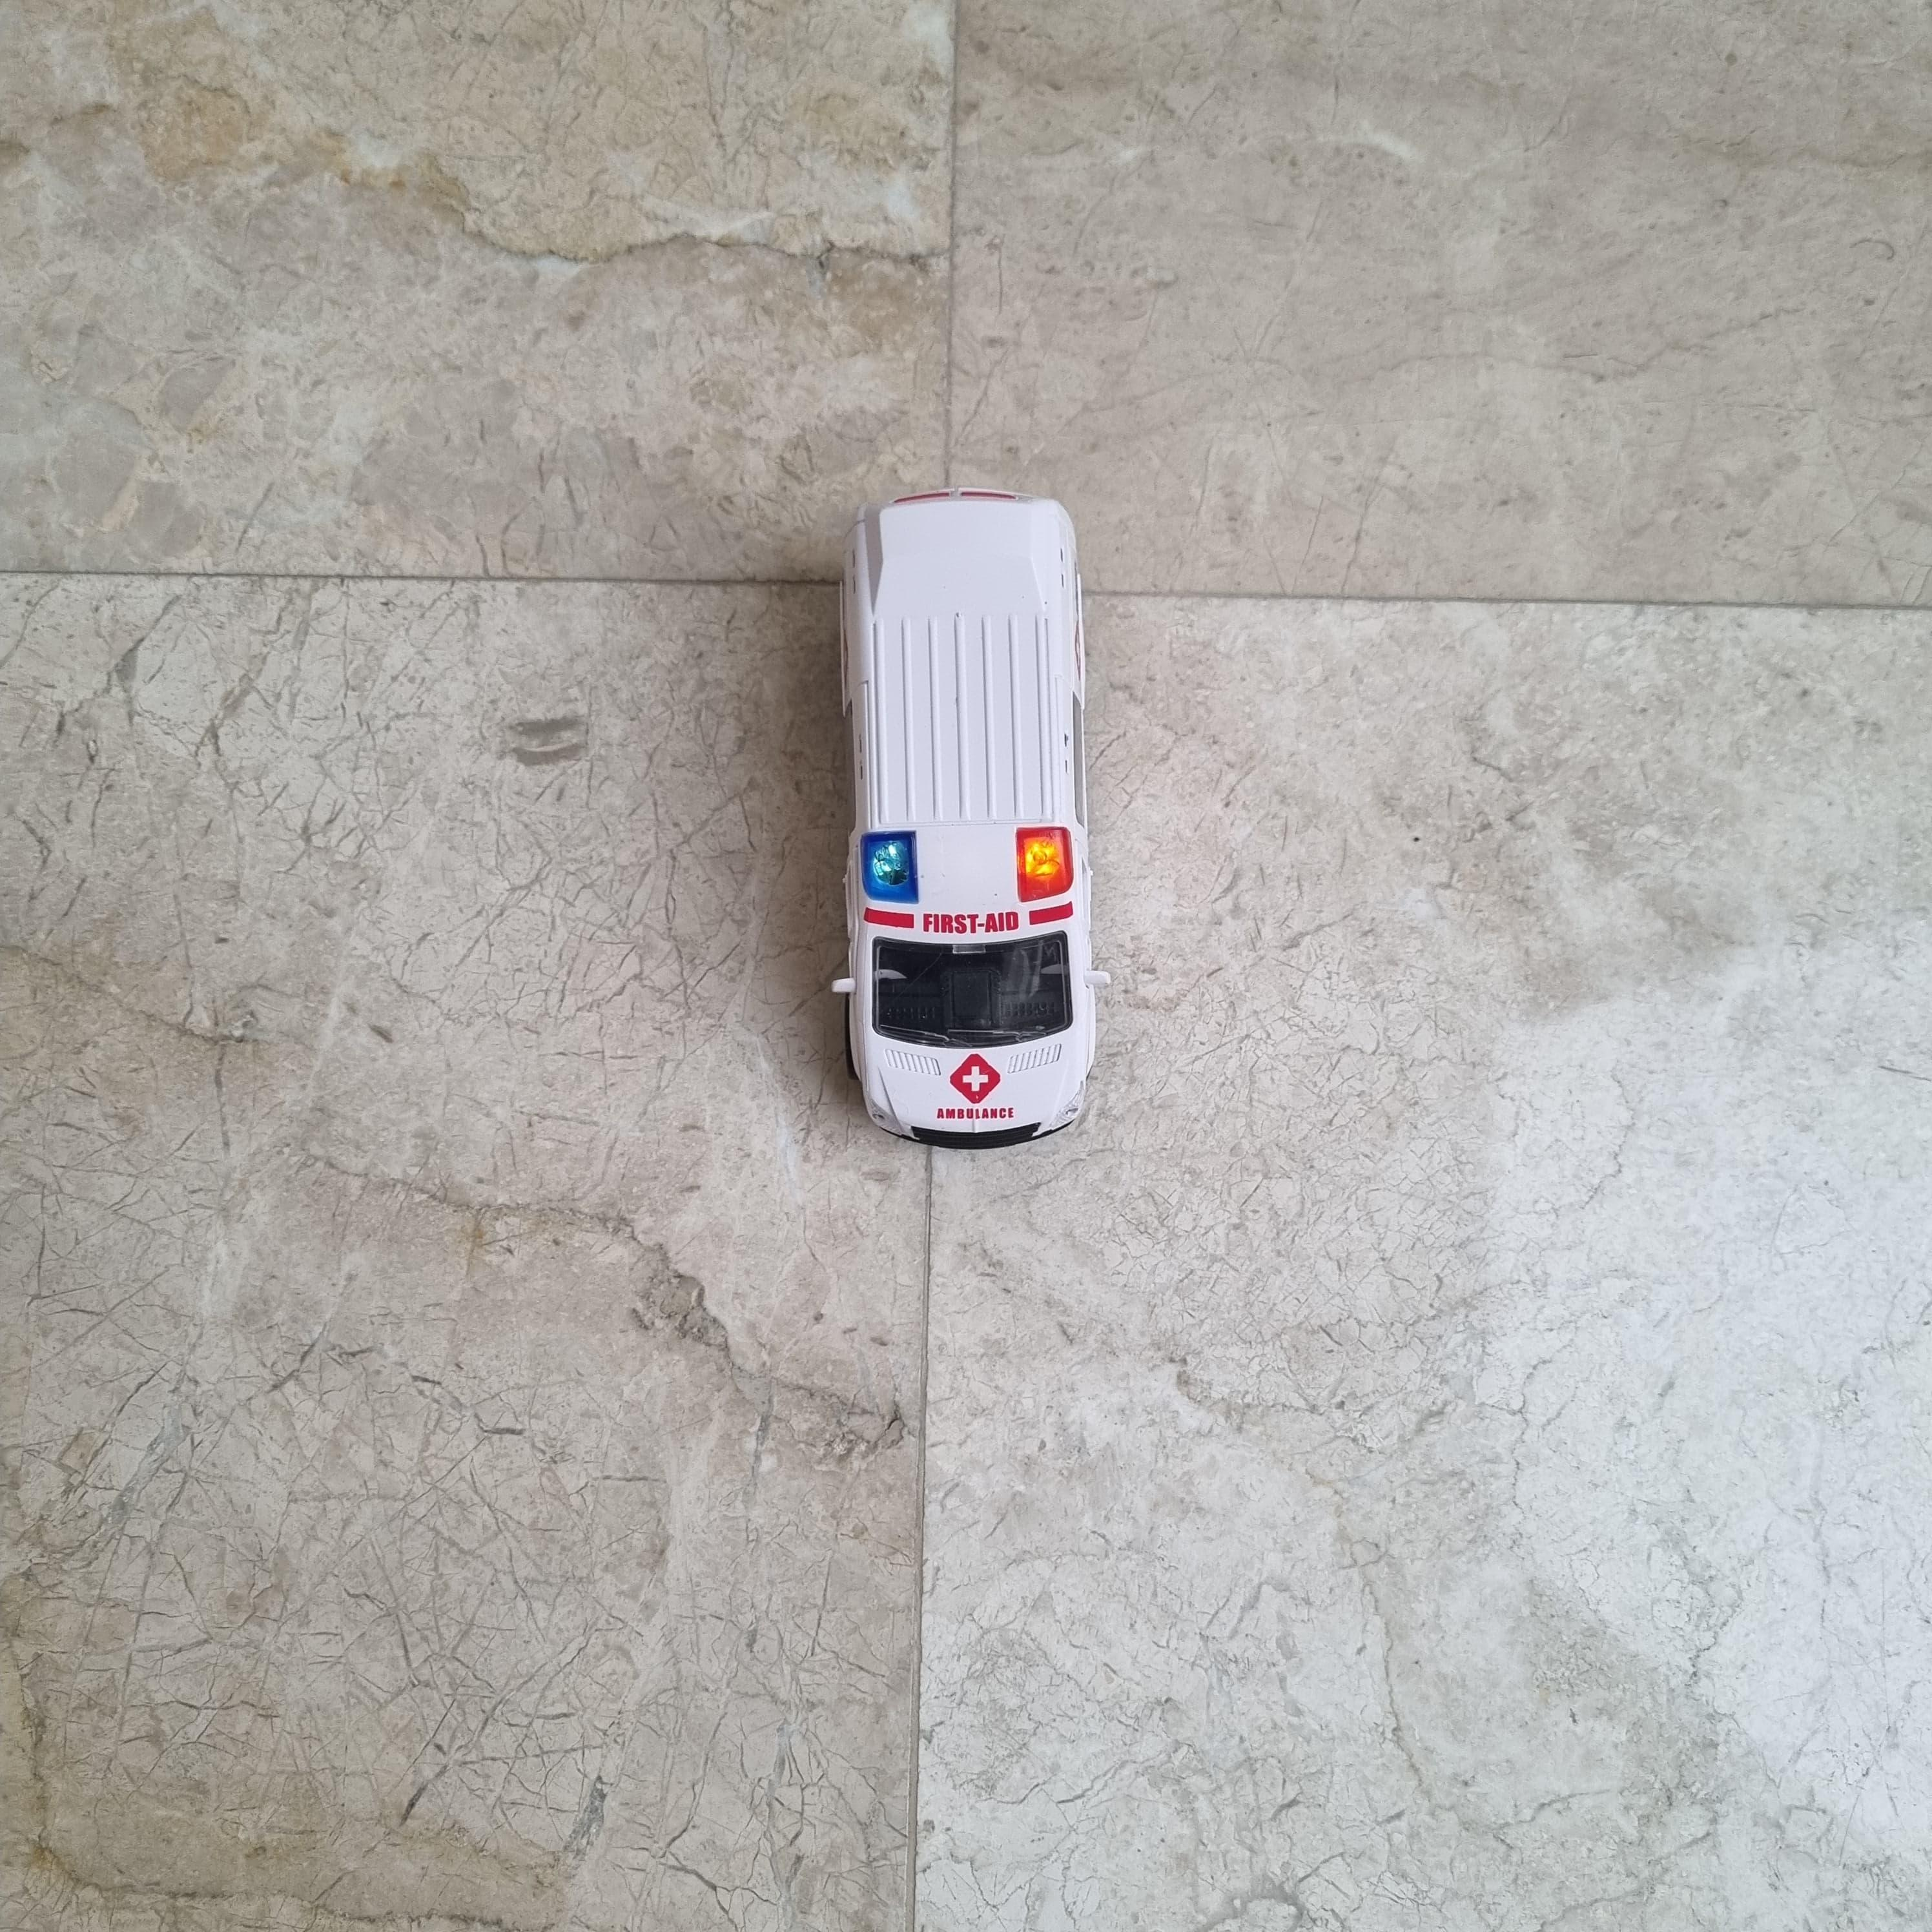ambulance_on: (833, 492, 1115, 1152)
